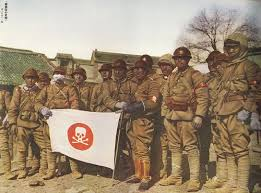Japanese Flag: (46, 107, 120, 171)
